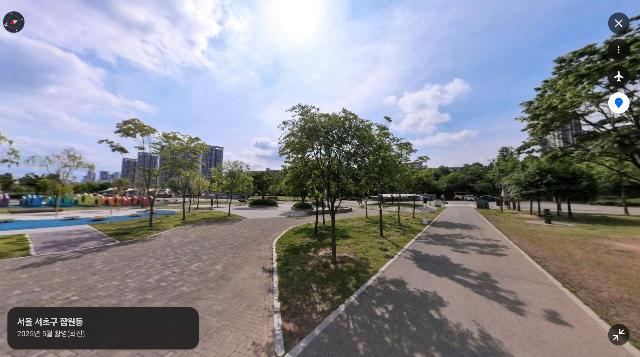other: (516, 13, 640, 216), (276, 103, 385, 264), (344, 117, 419, 238), (97, 117, 169, 229), (151, 131, 208, 221), (382, 139, 422, 228), (500, 158, 558, 215), (535, 161, 585, 219), (475, 145, 514, 213), (43, 148, 94, 196), (212, 158, 253, 217), (248, 170, 280, 206)
